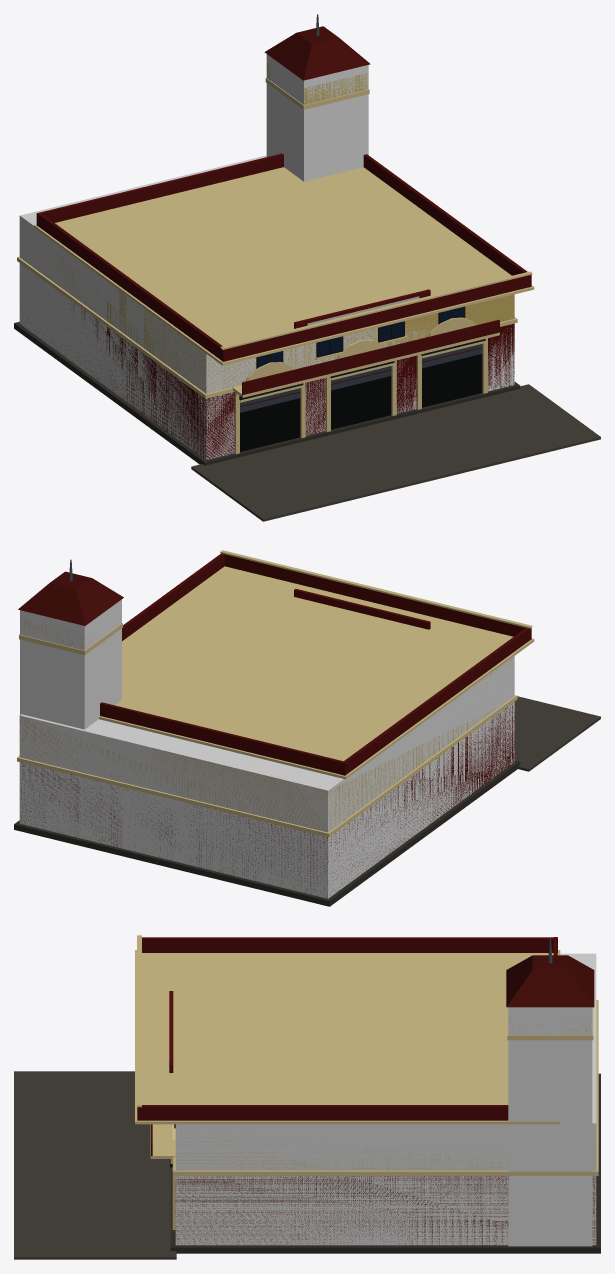
File: B28_fire_station.glb
3 views of the same model, one above another, from view 1: azimuth 30°, elevation 25°; view 2: azimuth 150°, elevation 25°; view 3: azimuth 270°, elevation 25° (orthographic). The views are drawn at different scales.
Visible parts, largest first — view 1: LOD0, COL_Main, COL_Tower; view 2: LOD0, COL_Main, COL_Tower; view 3: LOD0, COL_Main, COL_Tower.
Part boxes in pixels (x1=…): LOD0: x1=14, y1=14, x2=600, y2=521; COL_Main: x1=19, y1=155, x2=514, y2=459; COL_Tower: x1=266, y1=54, x2=368, y2=181; LOD0: x1=14, y1=550, x2=600, y2=906; COL_Main: x1=19, y1=656, x2=514, y2=898; COL_Tower: x1=20, y1=599, x2=121, y2=729; LOD0: x1=14, y1=935, x2=600, y2=1259; COL_Main: x1=175, y1=953, x2=596, y2=1245; COL_Tower: x1=508, y1=1007, x2=592, y2=1246.
Size of what is drawn, in the model's own units: 23 by 17.05 by 30.7.
